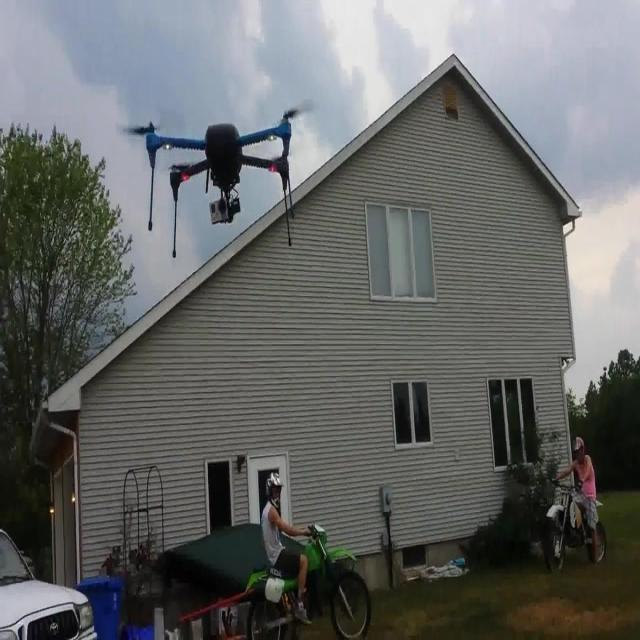drone: (130, 100, 308, 258)
